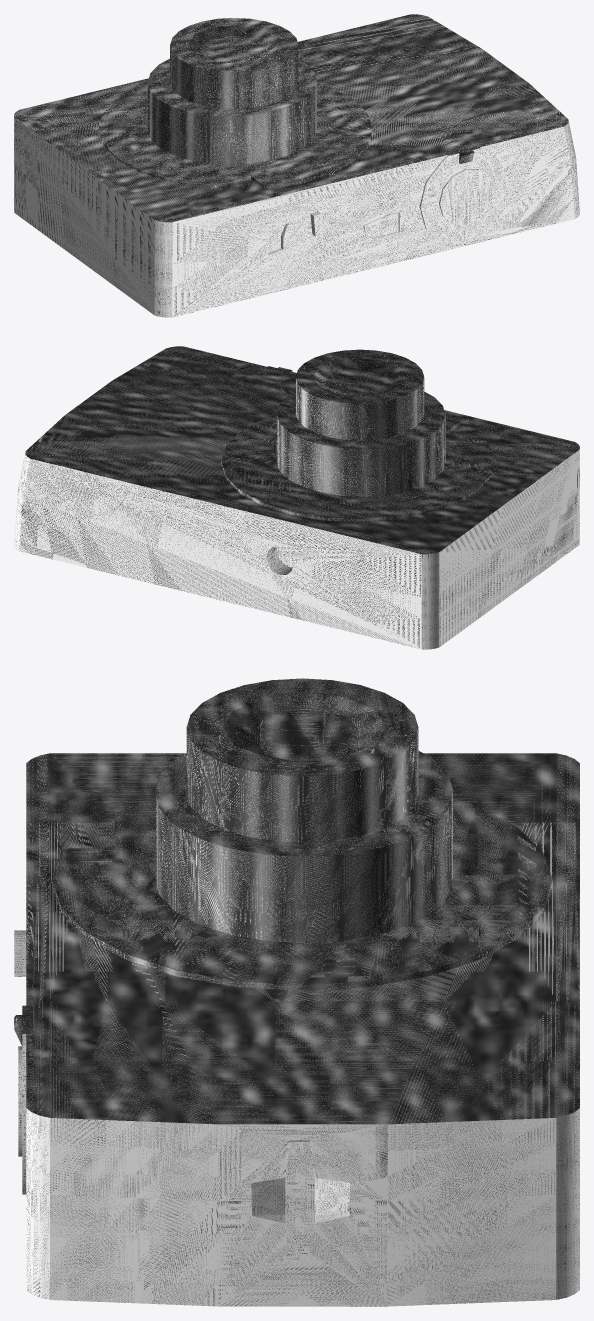
The model's file is model_scale.obj.
3 renders of one model, top to bottom at view 1: azimuth 30°, elevation 25°; view 2: azimuth 150°, elevation 25°; view 3: azimuth 270°, elevation 25°, orthographic. The views are drawn at different scales.
Parts seen in each view (by area): view 1: mesh2_mesh2-geometry, mesh1_mesh1-geometry; view 2: mesh2_mesh2-geometry, mesh1_mesh1-geometry; view 3: mesh2_mesh2-geometry, mesh1_mesh1-geometry.
Part boxes in pixels (<box>): mesh2_mesh2-geometry: <box>14,14,579,317</box>; mesh1_mesh1-geometry: <box>98,18,372,188</box>; mesh2_mesh2-geometry: <box>14,346,579,649</box>; mesh1_mesh1-geometry: <box>221,349,495,521</box>; mesh2_mesh2-geometry: <box>14,753,579,1306</box>; mesh1_mesh1-geometry: <box>52,678,552,990</box>.
Size of the model in its own units: 0.1188 by 0.0494 by 0.0743.
